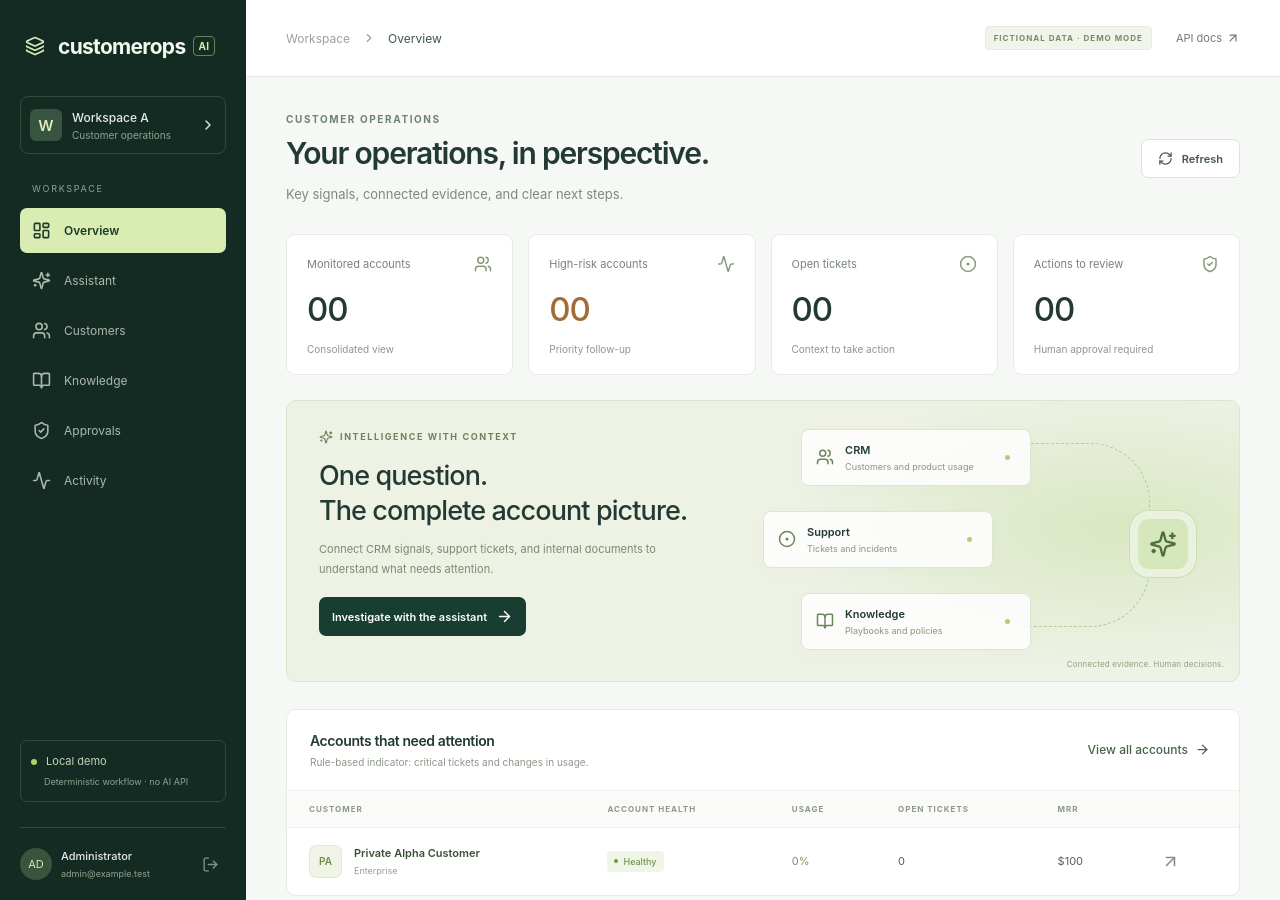
Test: clears data from the previous tenant before the next workspace finishes loading
expect the text "Private Alpha Customer" is shown: met, box [354,846,480,860]
Click the button named "Sign out": (210, 864) [195,848,226,880]
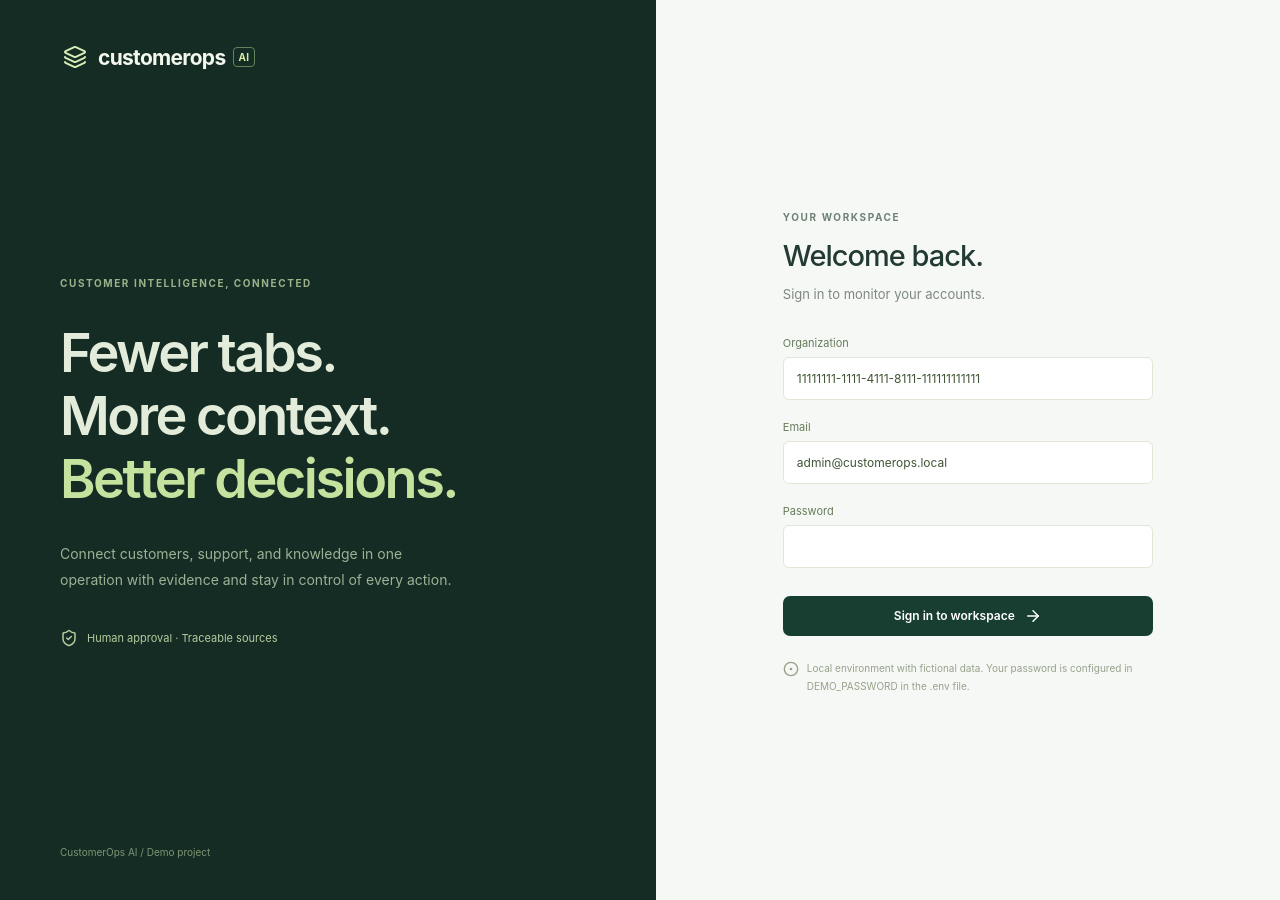
expect the password field labelled "Password" is shown: met
In the password field labelled "Password": (968, 546) [783,524,1153,568], type "test-password-123"
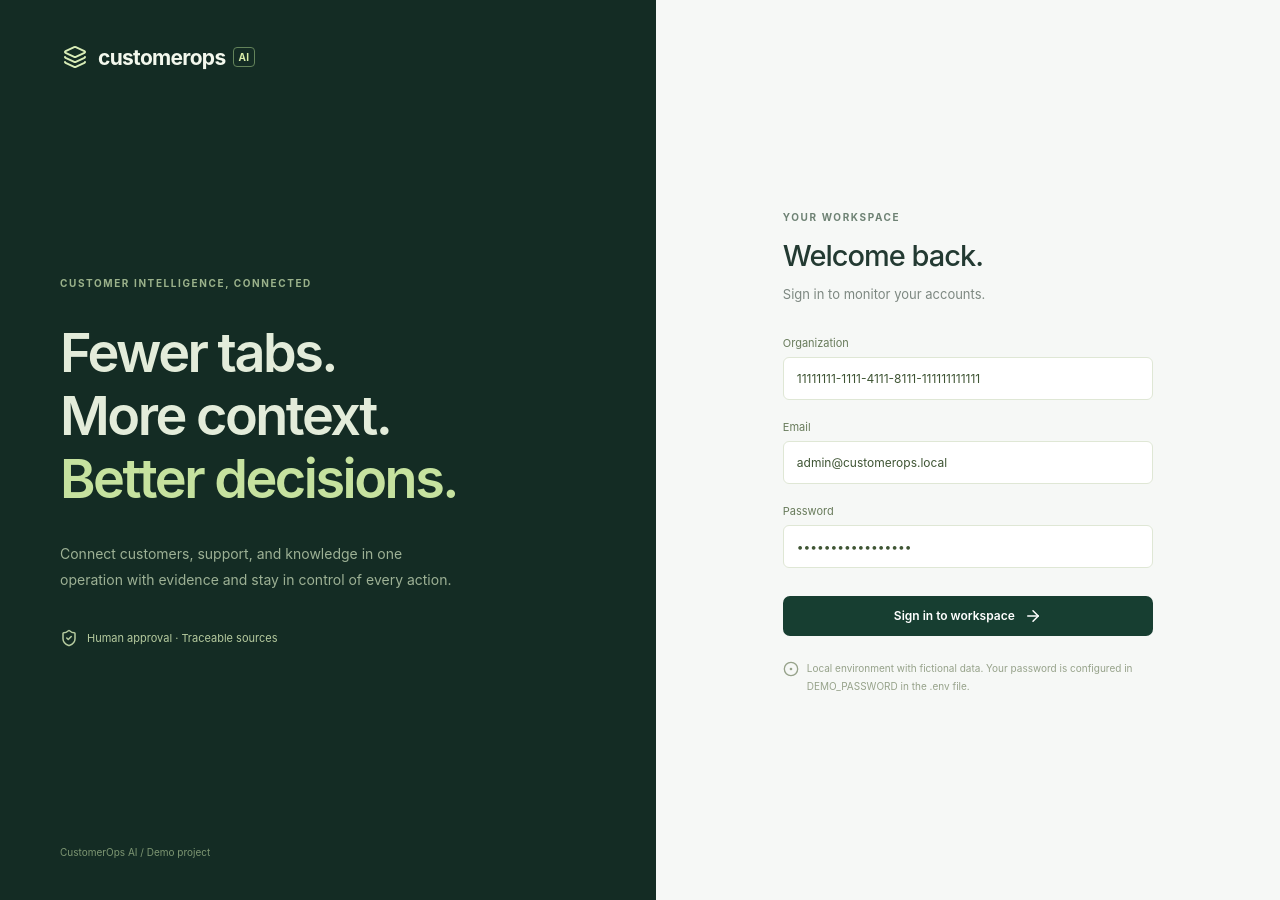
Click the button "Sign in to workspace": (968, 616) [783,596,1153,636]
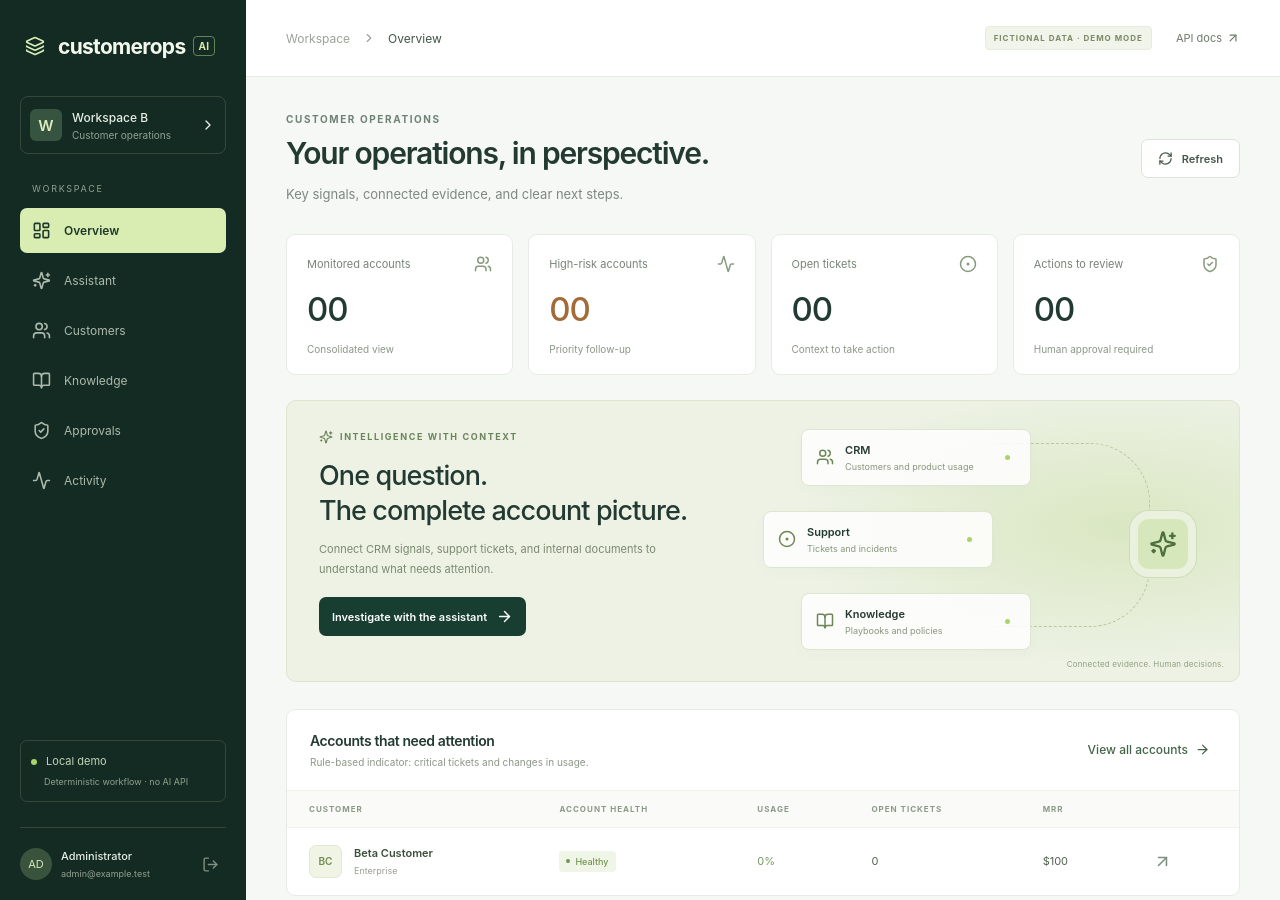
expect the text "Private Alpha Customer" is not shown: met
expect the text "Workspace B" is shown: met, box [72,110,148,124]
expect the text "Beta Customer" is shown: met, box [354,846,433,860]
